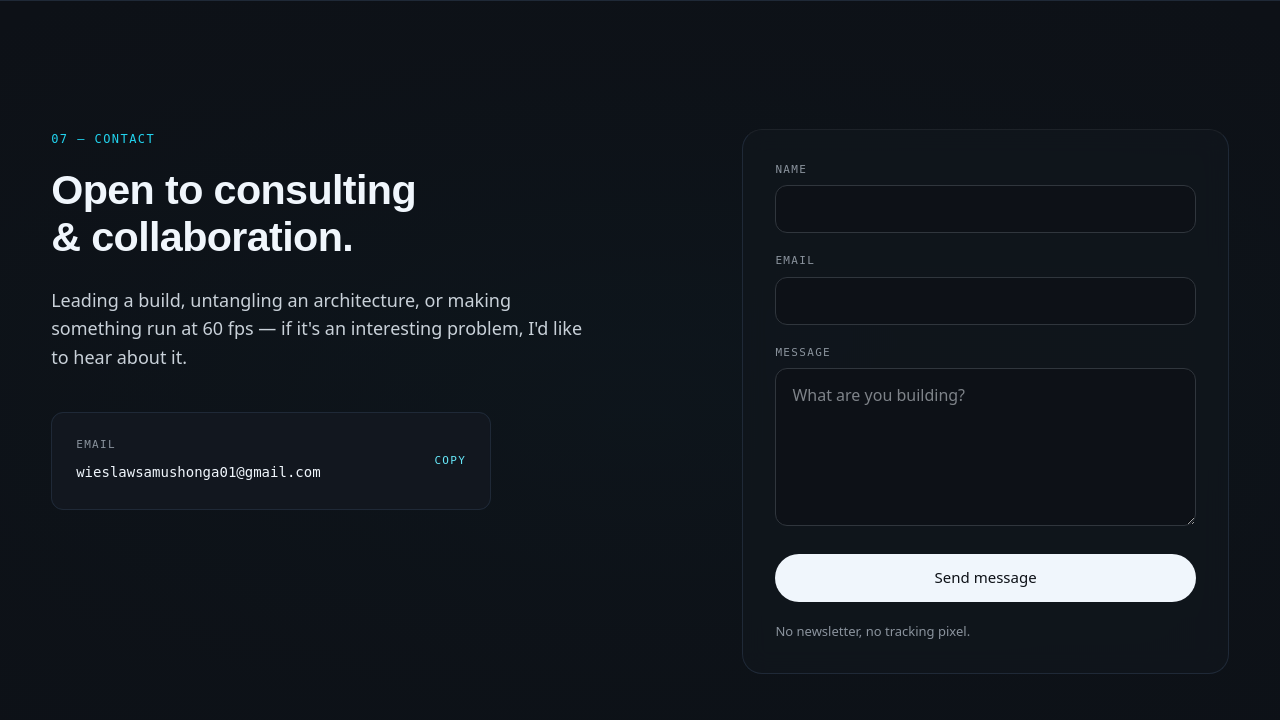
it: Contact — form › never reports success in M0 and hands off to mailto instead
In the field labelled "Name": (986, 209) 775,185 -> 1196,233, type "Ada"
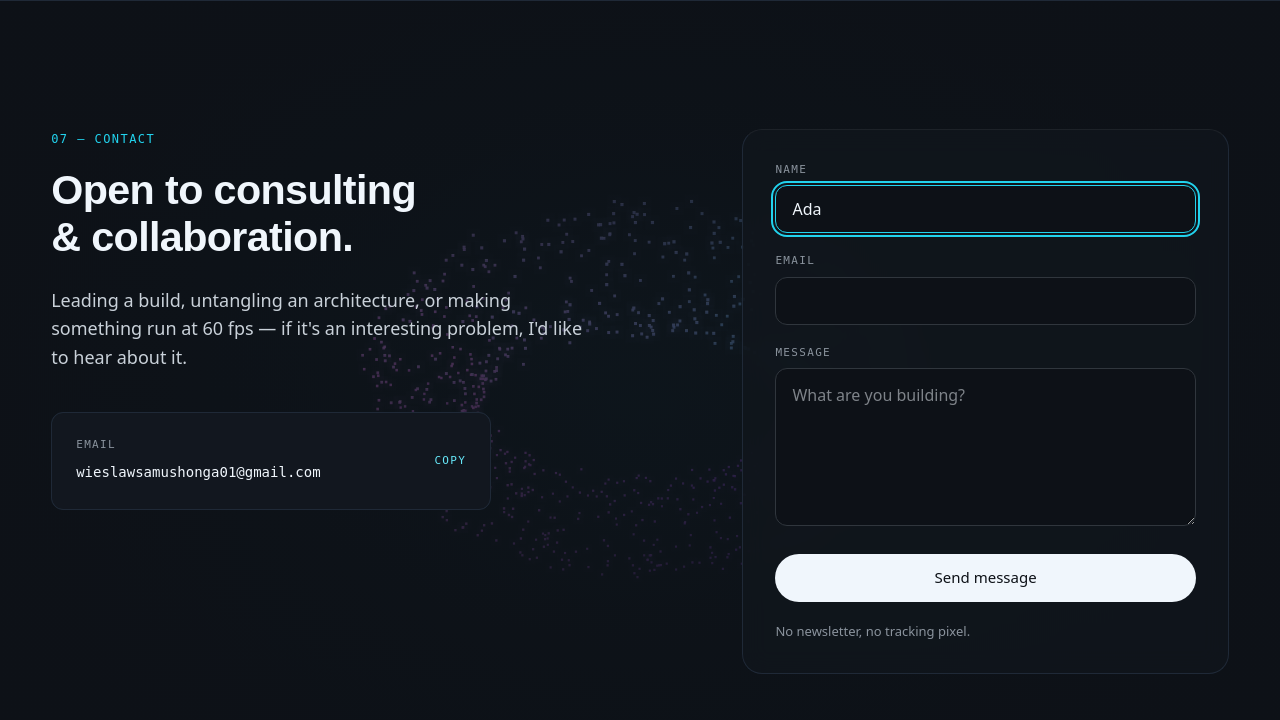
In the field labelled "Email": (986, 301) 775,277 -> 1196,325, type "ada@example.com"
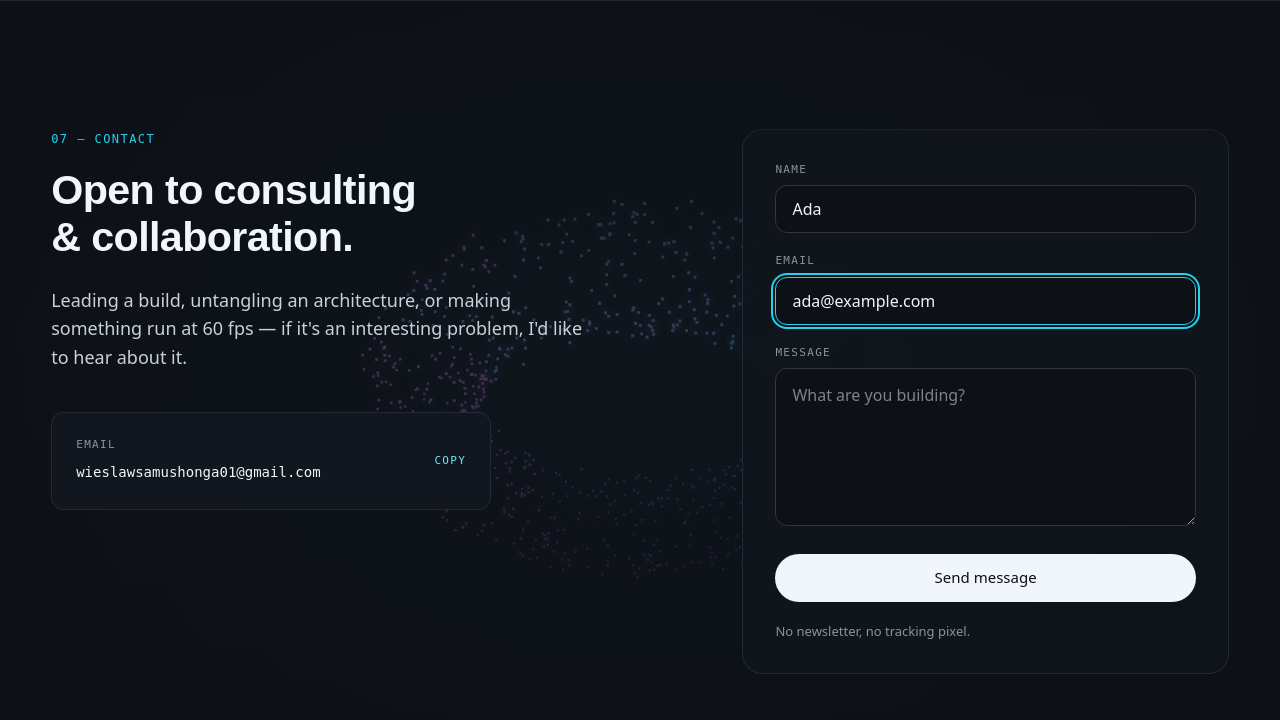
In the text box labelled "Message": (986, 447) 775,368 -> 1196,526, type "Lets build something"
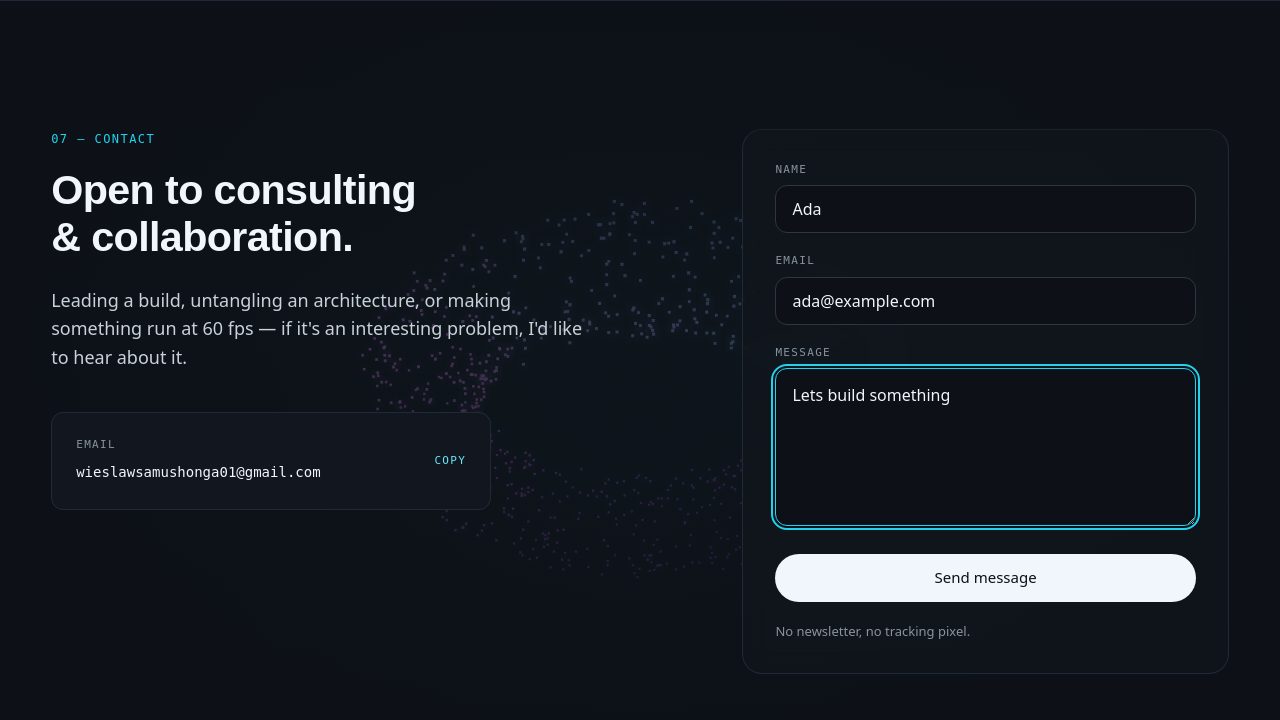
Click the button "Send message": (986, 578) 775,554 -> 1196,602
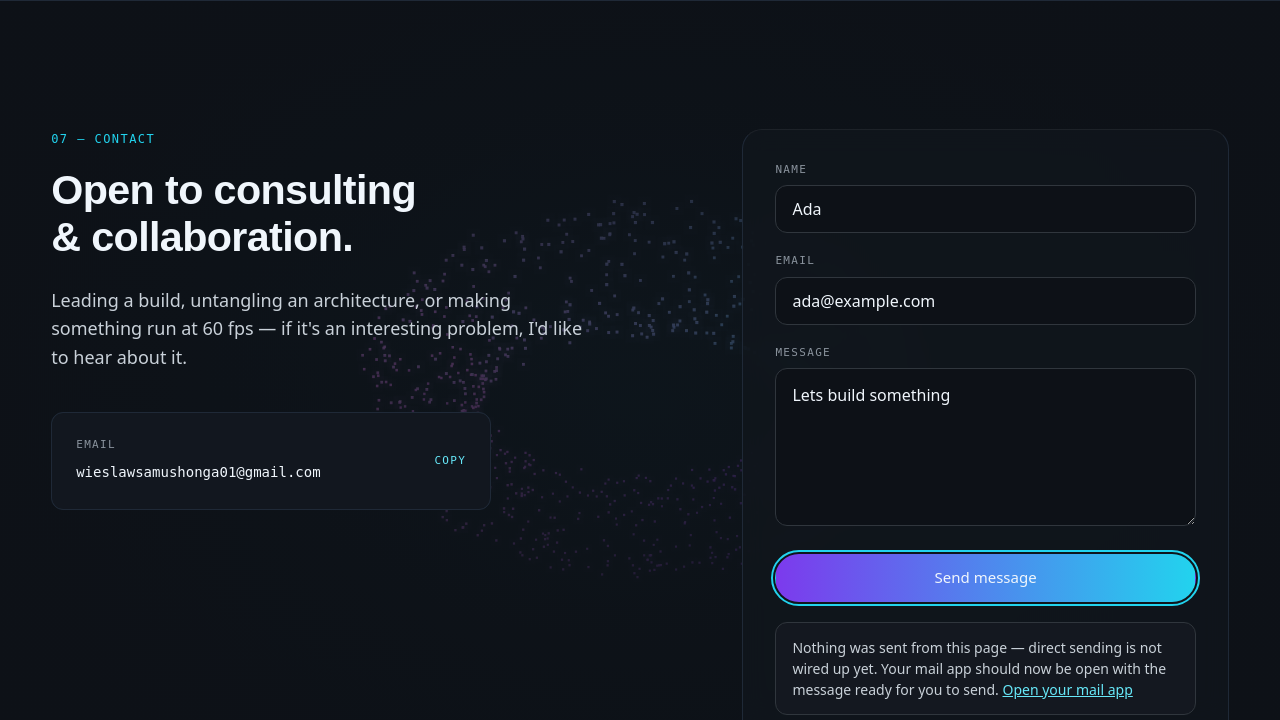
Now the message shows "Nothing was sent from this page — direct sending is not wired up yet. Your mail app should now be open with the message ready for you to send.", box 792,638 -> 1166,698
